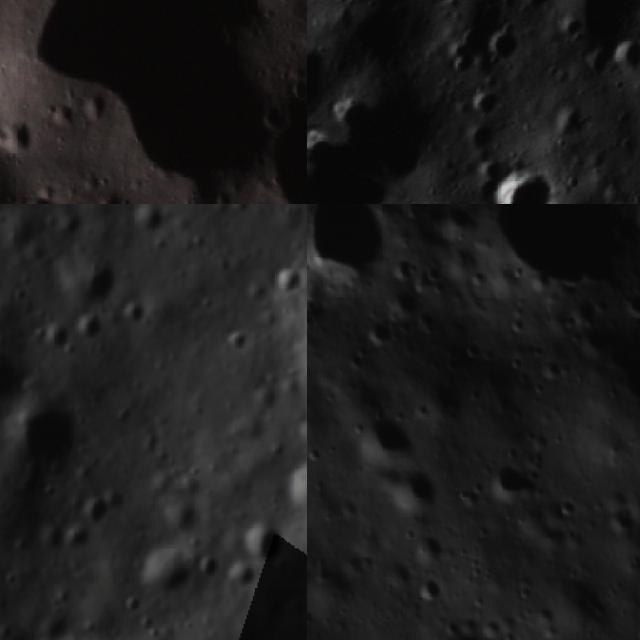crater: (456, 204, 640, 319), (307, 204, 397, 306), (6, 398, 84, 472), (348, 404, 425, 471), (482, 150, 566, 204), (484, 449, 544, 509), (133, 542, 197, 597), (476, 12, 534, 70), (388, 458, 442, 520), (67, 256, 121, 306), (235, 516, 283, 564), (307, 24, 339, 93), (404, 566, 447, 608), (35, 317, 74, 363), (608, 23, 640, 79), (55, 516, 95, 560), (0, 115, 39, 155), (0, 348, 28, 402), (281, 457, 307, 514), (129, 204, 168, 238), (80, 484, 114, 522), (272, 262, 307, 297), (74, 308, 108, 342), (194, 549, 226, 585), (449, 623, 492, 640), (146, 192, 183, 204)
